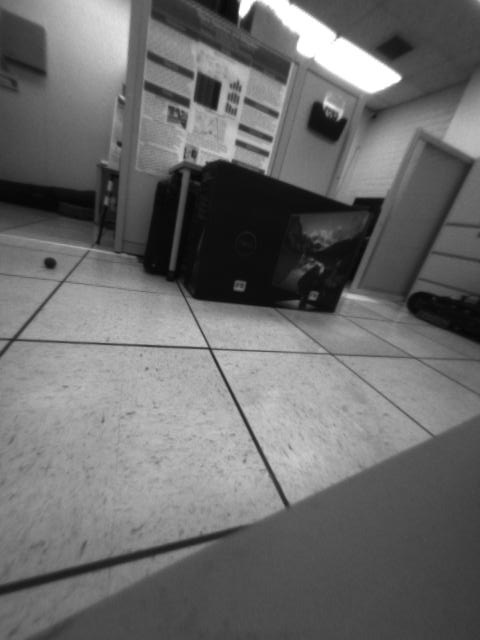dogtoy: (40, 251, 63, 274)
